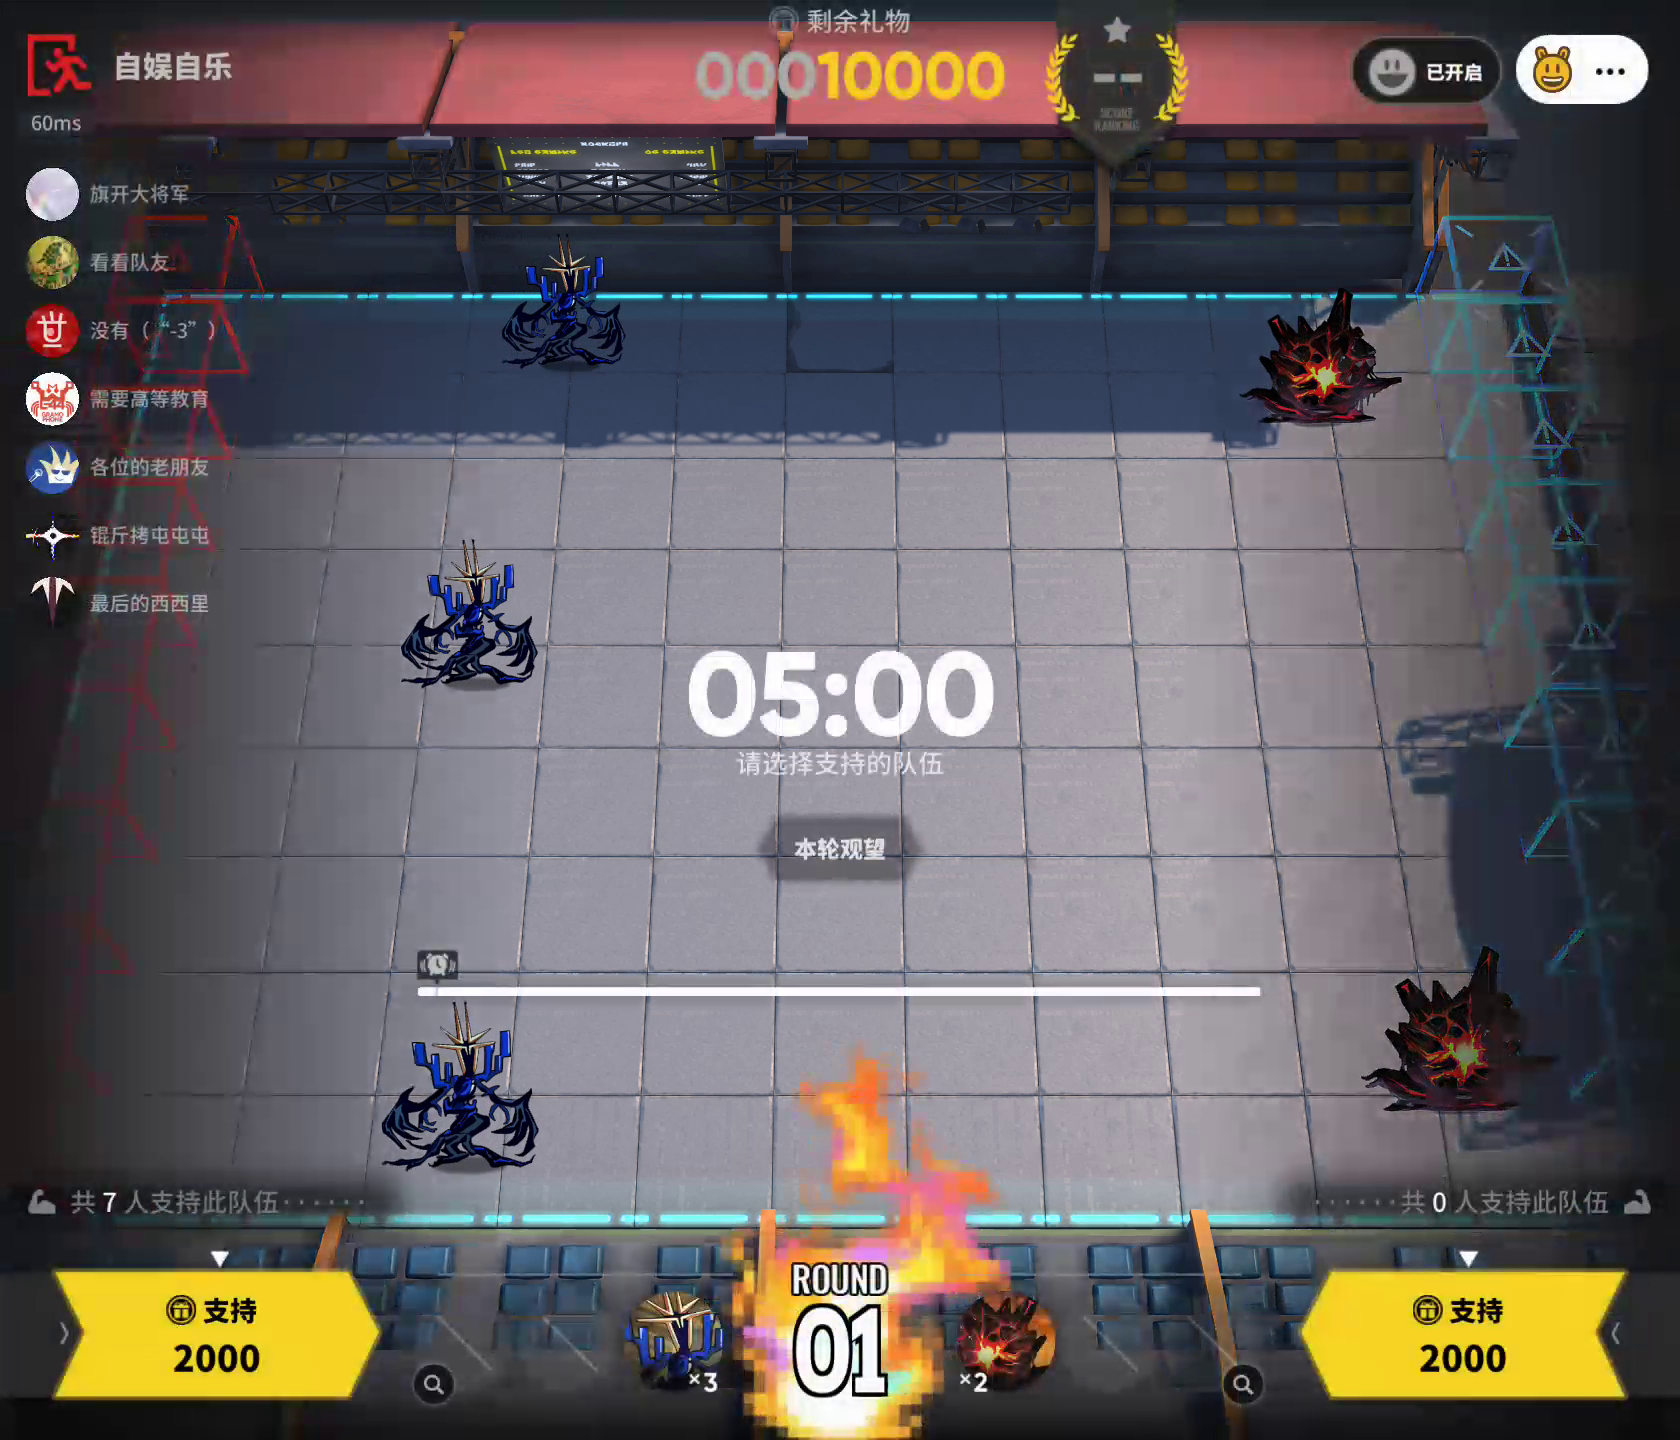“庞贝”: (1366, 939, 1566, 1121), (1247, 279, 1404, 440), (950, 1289, 1066, 1394)
狂躁珊瑚: (374, 1001, 556, 1181), (381, 533, 546, 700), (499, 229, 636, 379), (614, 1286, 733, 1394)
